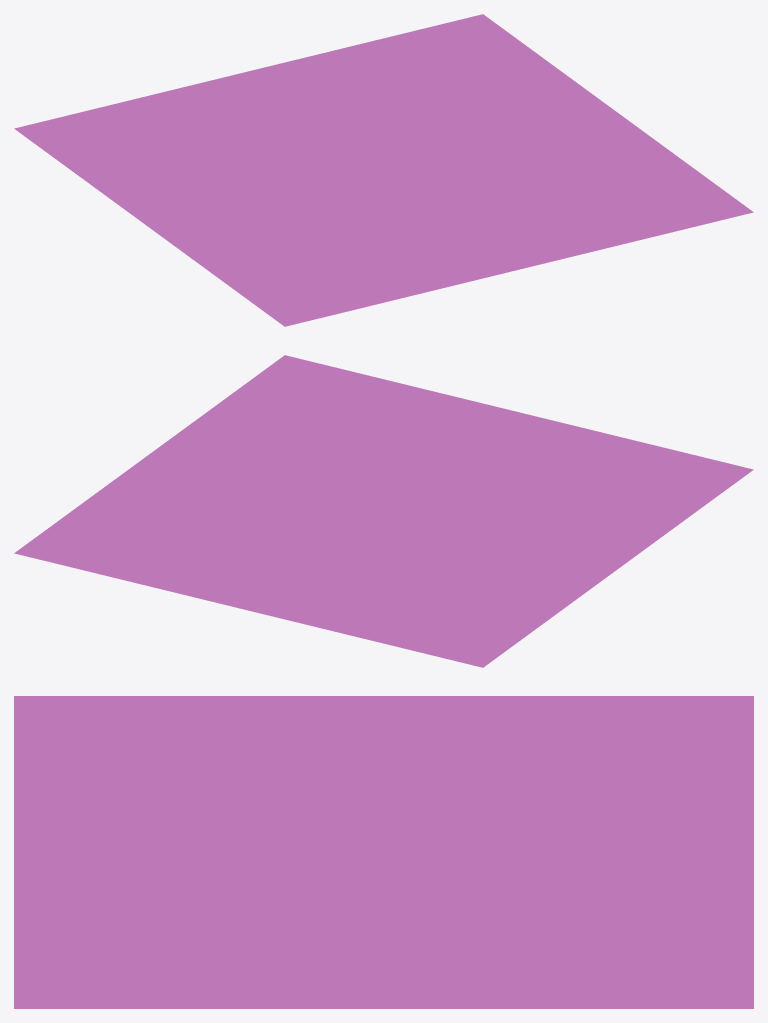
The model's file is environmentproject_floor_a.fbx.
3 views of the same model, one above another, from view 1: azimuth 30°, elevation 25°; view 2: azimuth 150°, elevation 25°; view 3: azimuth 270°, elevation 25° (orthographic). The views are drawn at different scales.
Visible parts, largest first — view 1: floor_a_GEO_01; view 2: floor_a_GEO_01; view 3: floor_a_GEO_01.
Part boxes in pixels (x1=…): floor_a_GEO_01: x1=14, y1=14, x2=753, y2=326; floor_a_GEO_01: x1=14, y1=355, x2=753, y2=667; floor_a_GEO_01: x1=14, y1=696, x2=753, y2=1008.
Size of the model in its own units: 200 by 0 by 200.
